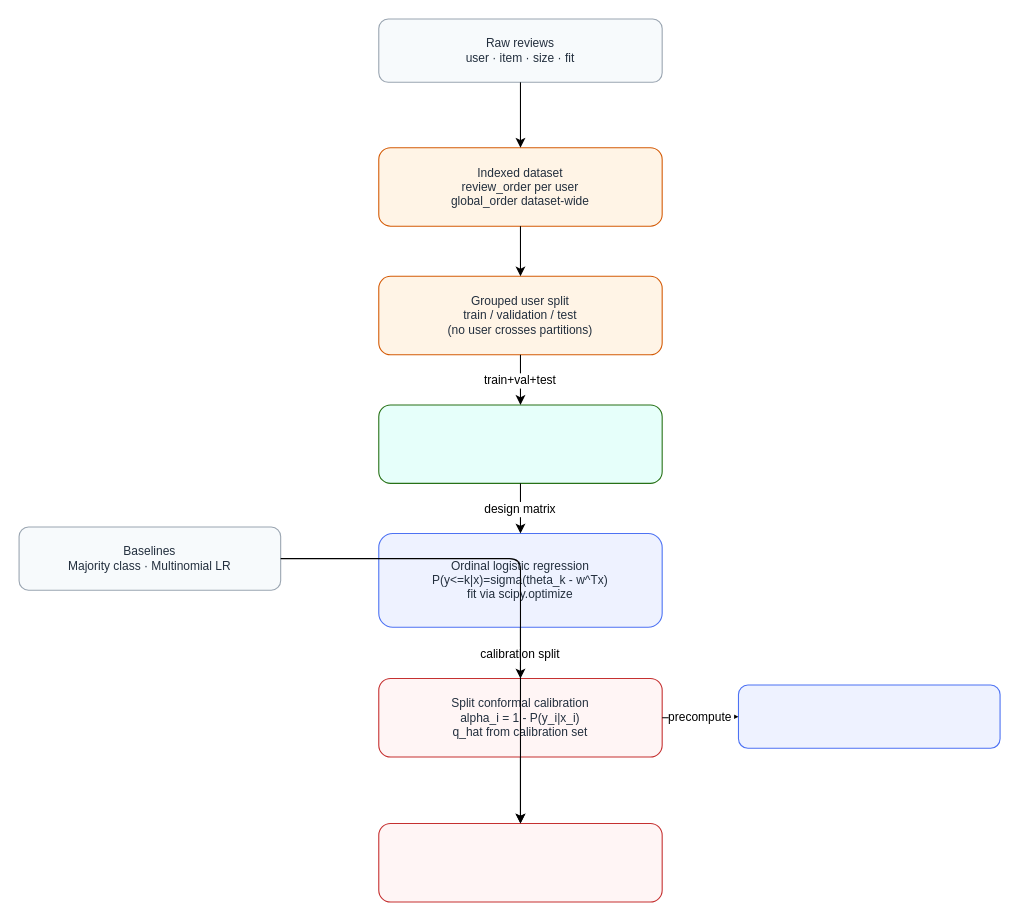
Image size: 1019x921. Some labels were removed from this diagram. Here are the shapes that lost their labels. From the top down, the box of each, then its label:
(378, 404, 662, 483): Point-in-time features static body + catalogue expanding history (strict <)
(737, 684, 1000, 748): Prediction publication DynamoDB · parity-tested
(378, 822, 662, 902): Evaluation MAE-ordinal · accuracy@1 · macro-F1 coverage · avg set size
